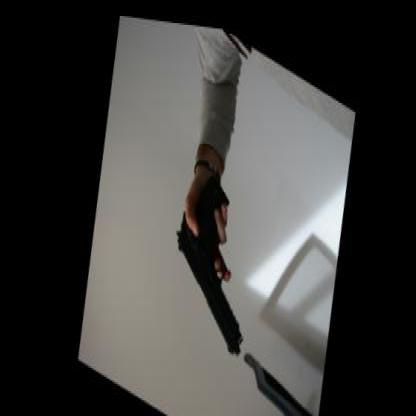pistol: (156, 147, 263, 358)
